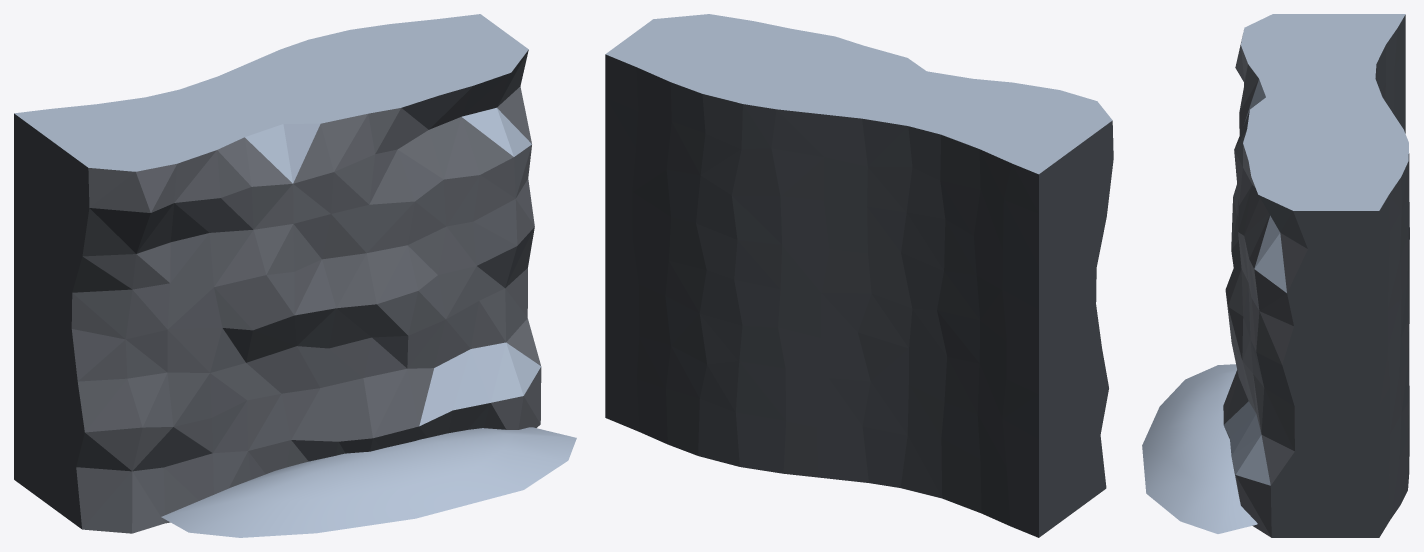
The model's file is cliff_face.glb.
The picture shows the model from 3 angles, left to right: view 1: azimuth 30°, elevation 25°; view 2: azimuth 150°, elevation 25°; view 3: azimuth 270°, elevation 25°; orthographic projection. The views are drawn at different scales.
Visible parts, largest first — view 1: Rock; view 2: Rock; view 3: Rock.
Part boxes in pixels (left/top/right/bottom): Rock: left=14, top=14, right=576, bottom=537; Rock: left=605, top=14, right=1113, bottom=537; Rock: left=1142, top=14, right=1409, bottom=537.
Bounding box in the file's own units: 8.11 × 6.2 × 4.6.
